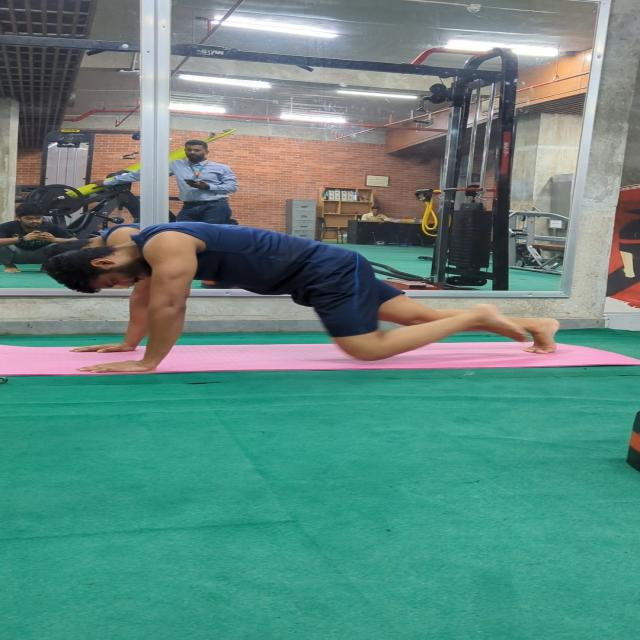Normal_MountainClimbers: (36, 202, 580, 374)
